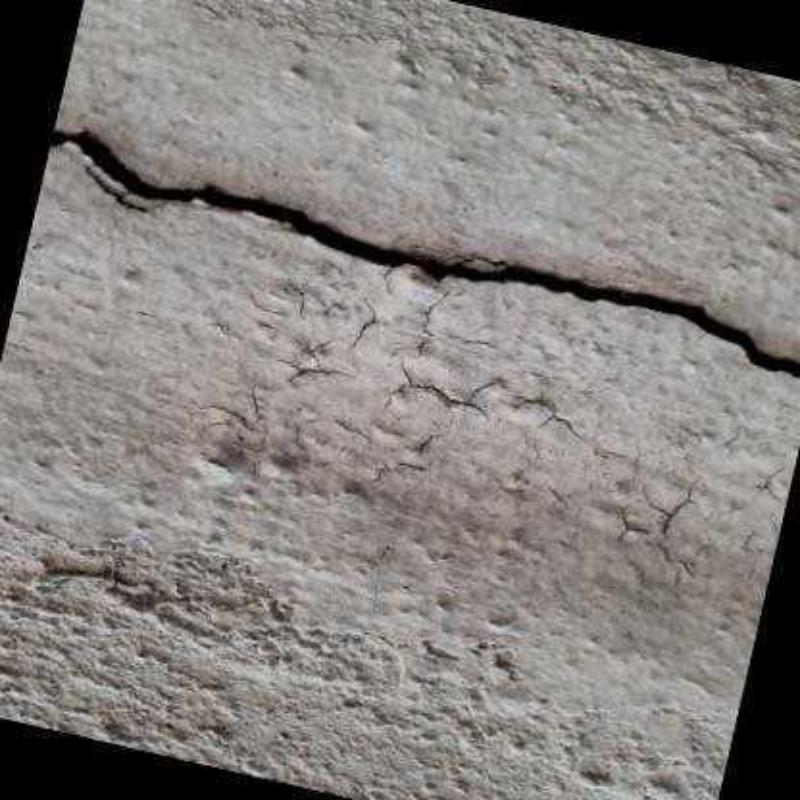pothole: (48, 127, 800, 381), (80, 165, 147, 215)
